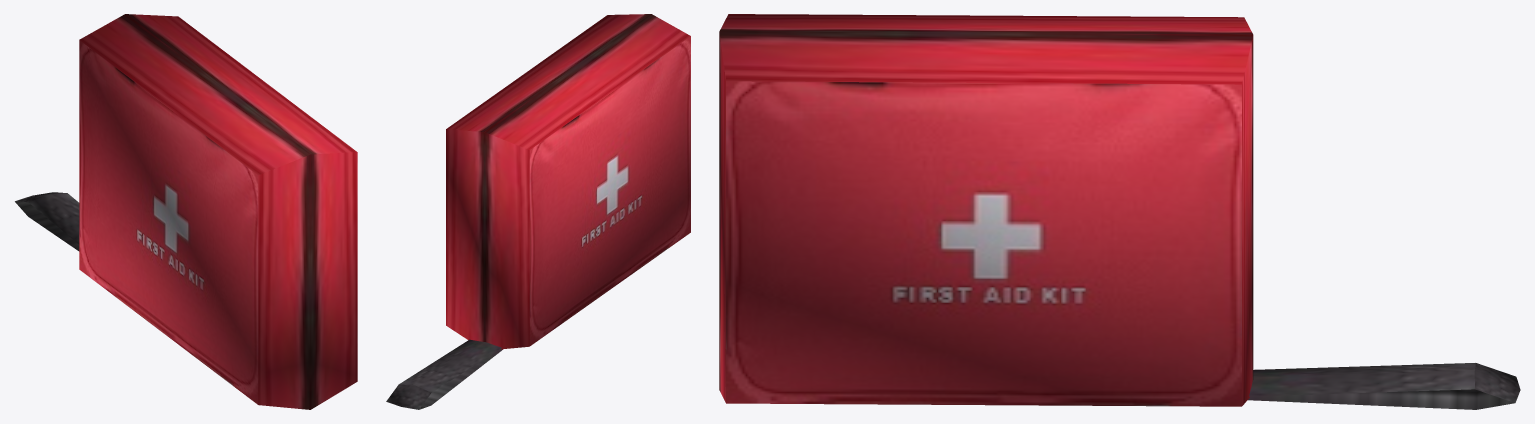
The model's file is Health_Kit.obj.
3 views of the same model, side by side, from view 1: azimuth 30°, elevation 25°; view 2: azimuth 150°, elevation 25°; view 3: azimuth 270°, elevation 25° (orthographic). The views are drawn at different scales.
Visible parts, largest first — view 1: Med_Kit_Closed; view 2: Med_Kit_Closed; view 3: Med_Kit_Closed.
Boxes of the visible parts, x1,y1,x2,y2 form: Med_Kit_Closed: [15, 14, 357, 409]; Med_Kit_Closed: [386, 14, 690, 409]; Med_Kit_Closed: [719, 14, 1520, 409].
Bounding box in the file's own units: 1.1 × 2.66 × 5.26.
